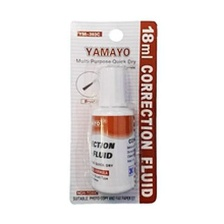book: (67, 19, 157, 204)
correction_fluid: (86, 63, 139, 196)
